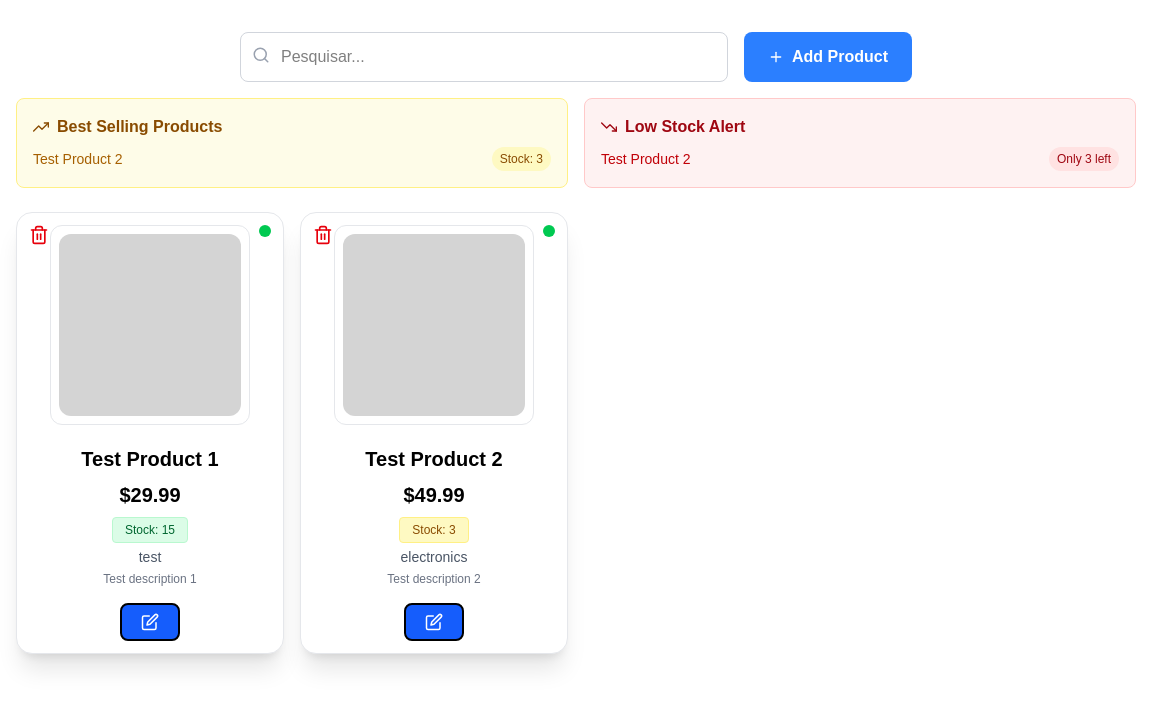
Scenario: SaleProductManagement Component › Product Management Actions › opens add product form when Add Product button is clicked
Click the button "Add Product" at (828, 57), box [744,32,912,82]
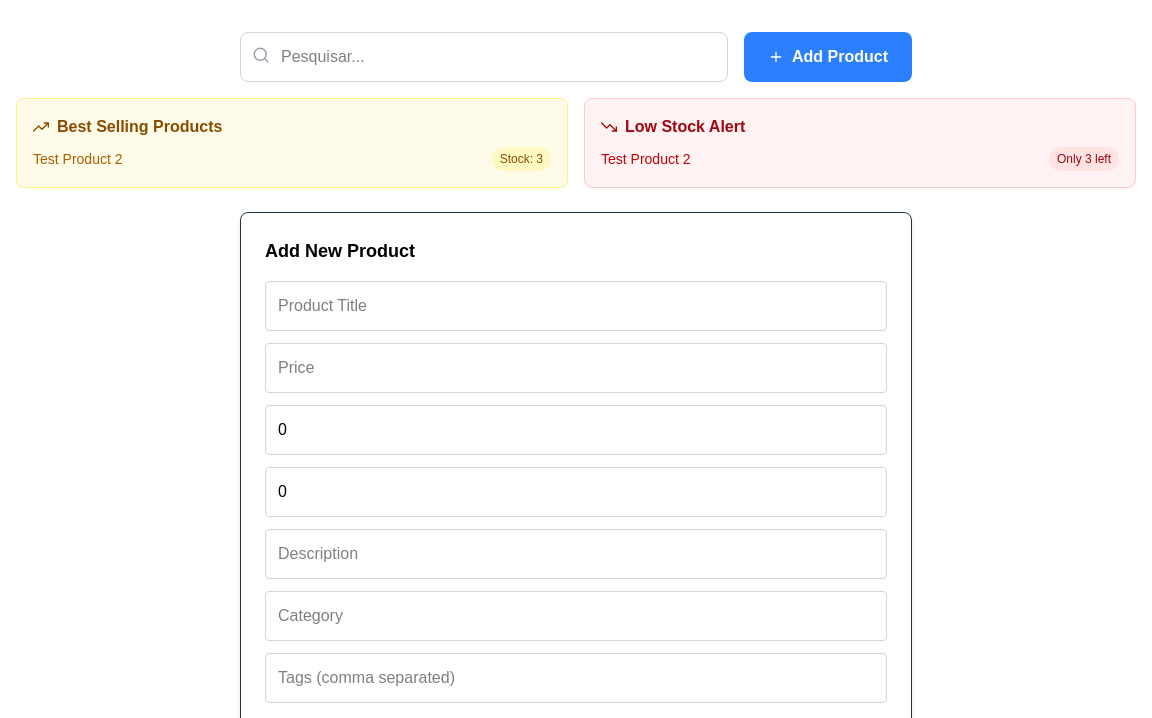
Expected: the heading "Add New Product" is shown, [265,241,415,261]
Expected: the field with placeholder "Product Title" is shown, [265,281,887,331]
